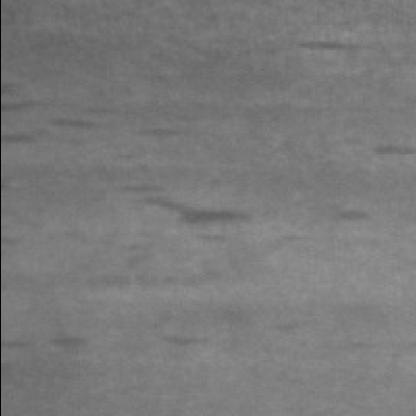inclusion: (0, 92, 202, 156), (119, 179, 254, 262), (283, 27, 366, 73), (152, 328, 214, 360), (42, 331, 94, 360)
